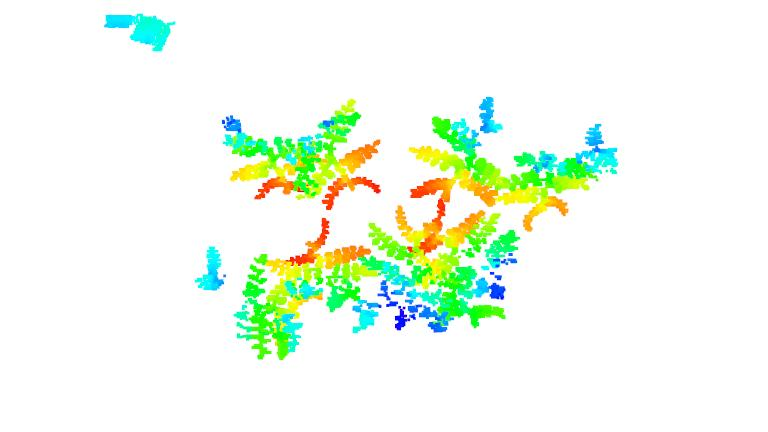chickpea: (194, 245, 313, 361), (505, 118, 624, 233), (402, 96, 506, 209), (299, 214, 383, 339), (375, 204, 457, 332), (207, 116, 325, 200), (448, 208, 526, 334), (304, 102, 391, 212)
